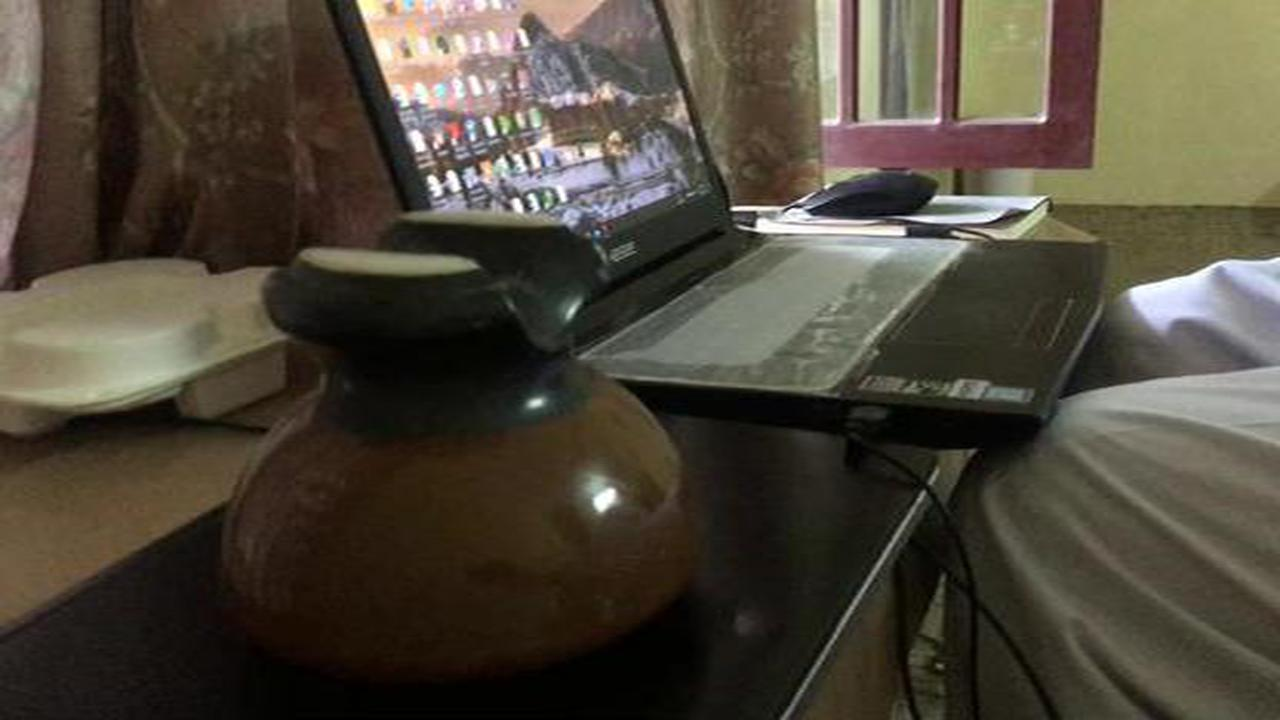insulator_pin: (182, 196, 745, 696)
